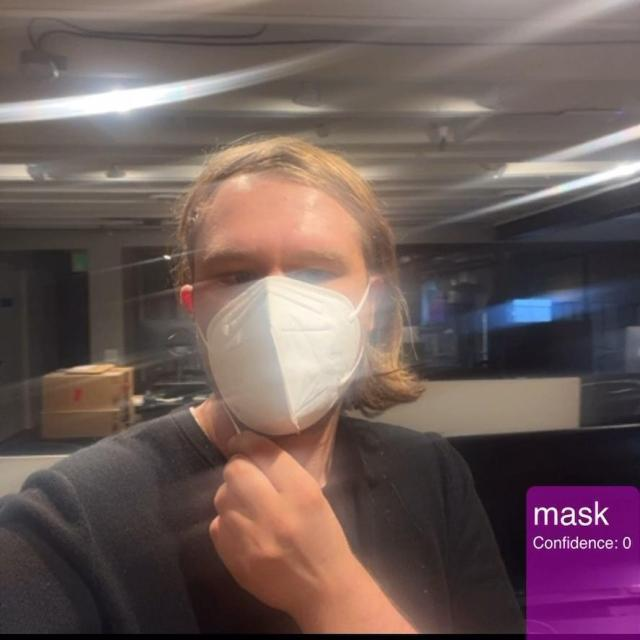no-helmet: (161, 110, 416, 437)
